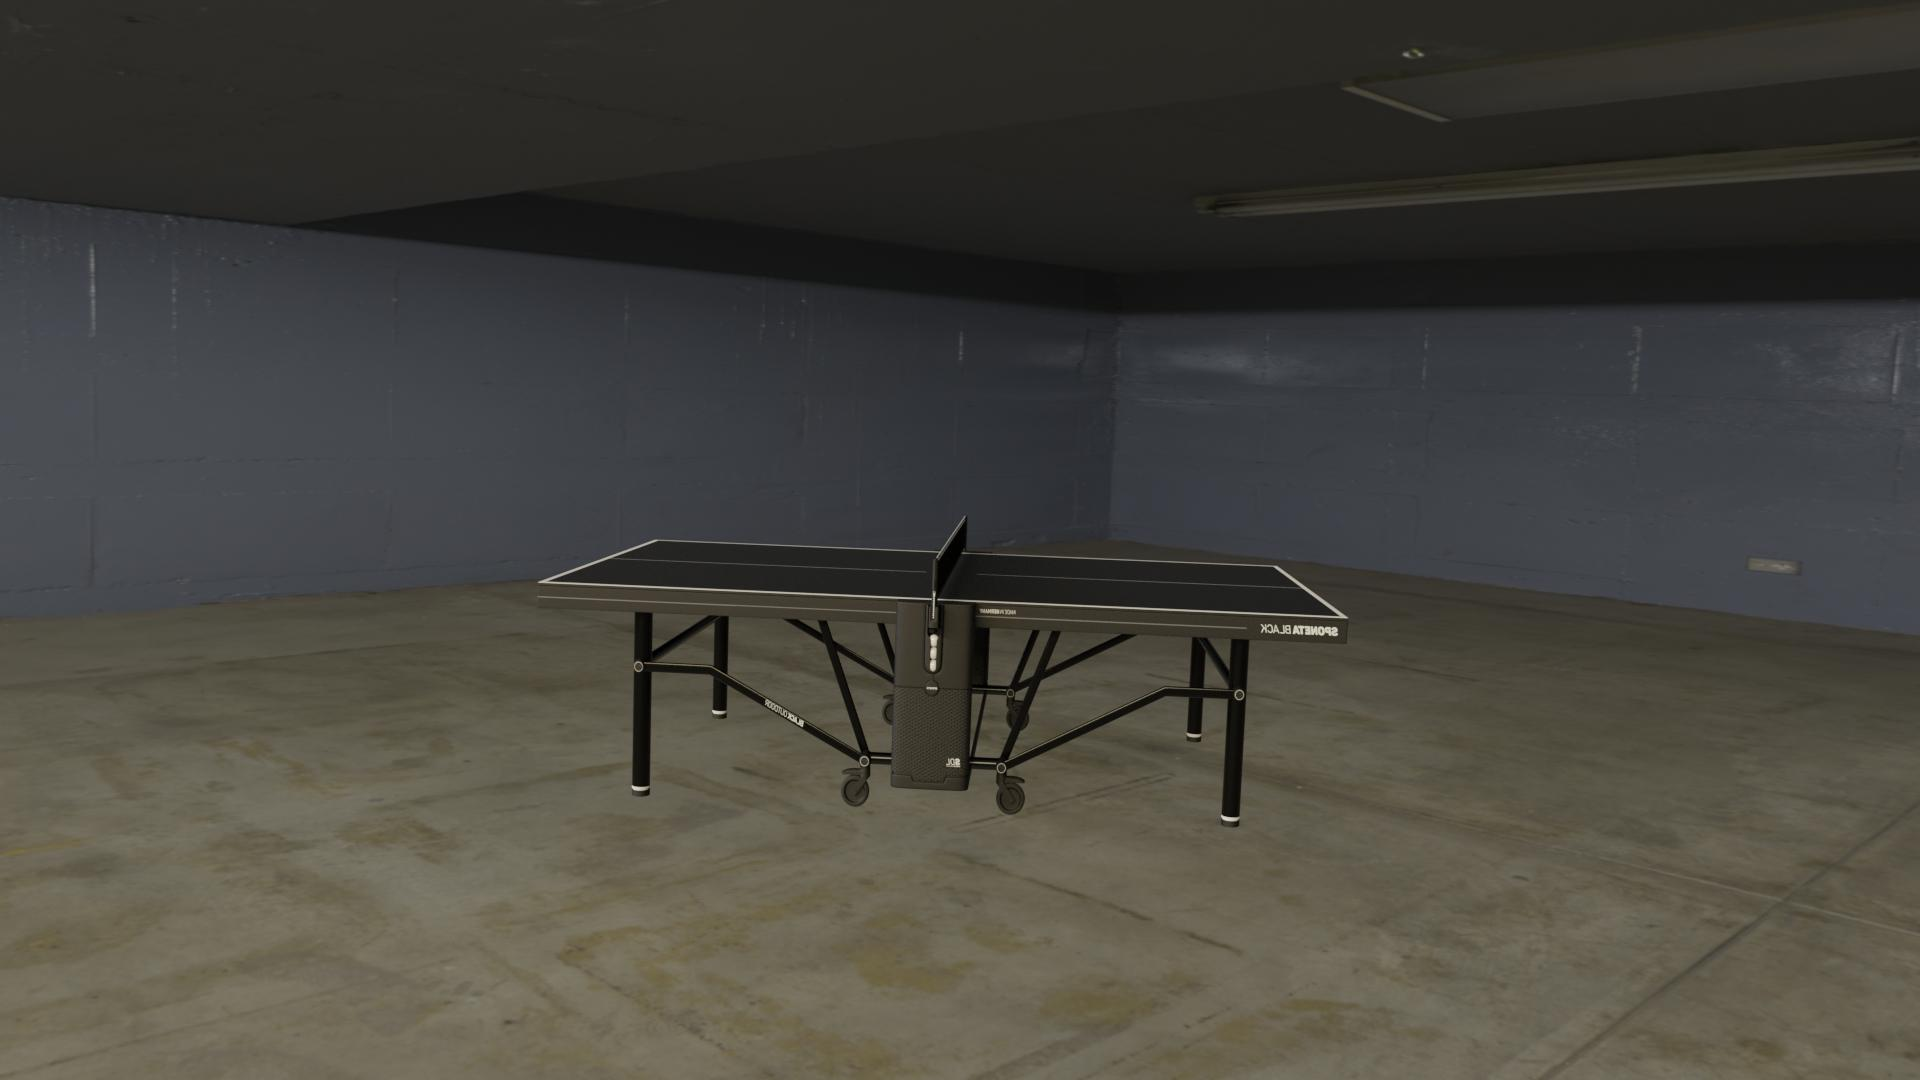table: (546, 541, 1341, 617)
